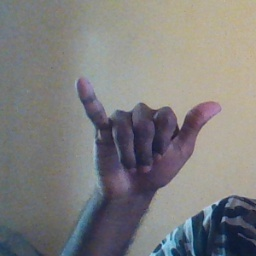J: (74, 76, 224, 198)
